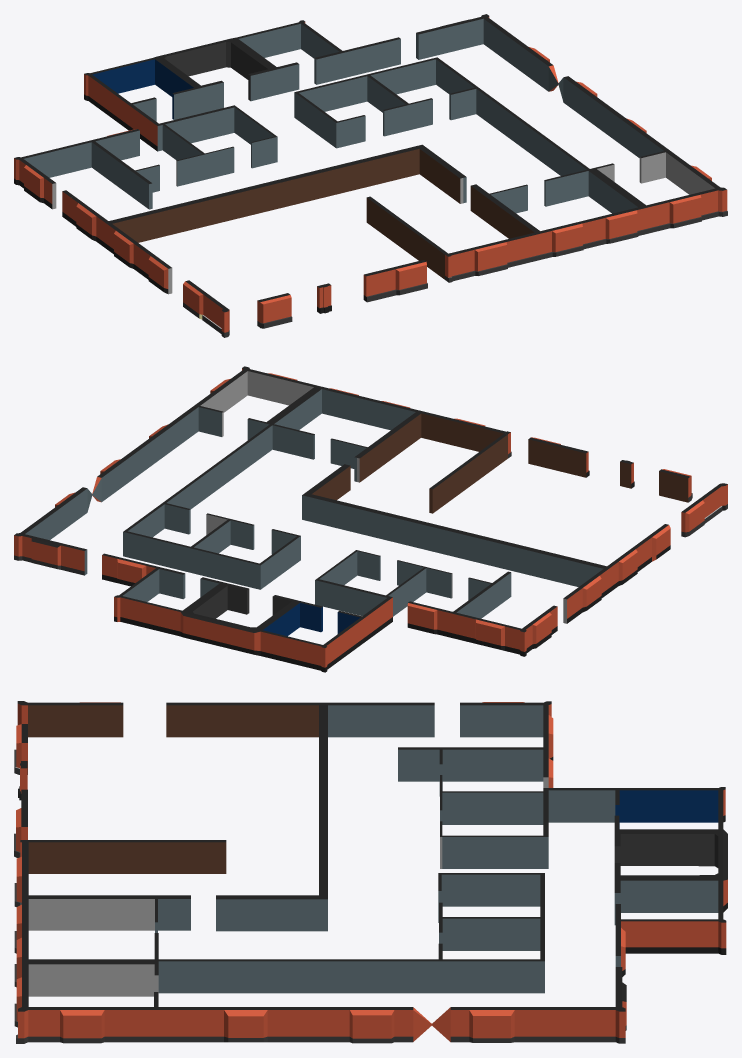
Rendered from Walls.fbx.
3 views of the same model, one above another, from view 1: azimuth 30°, elevation 25°; view 2: azimuth 150°, elevation 25°; view 3: azimuth 270°, elevation 25° (orthographic). The views are drawn at different scales.
Visible parts, largest first — view 1: Cube; view 2: Cube; view 3: Cube.
Part boxes in pixels (bbox=[...]): Cube: bbox=[14, 14, 727, 337]; Cube: bbox=[14, 366, 727, 672]; Cube: bbox=[14, 701, 727, 1043].
Size of the model in its own units: 6133 by 297 by 5921.
1 material, 1 textured.
